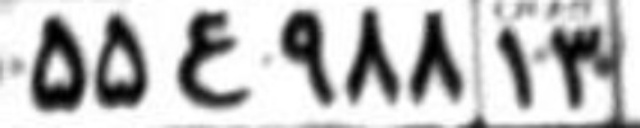1: (493, 25, 532, 108)
3: (546, 23, 604, 109)
5: (30, 16, 86, 109), (94, 12, 146, 109)
8: (342, 8, 401, 104), (410, 10, 464, 104)
9: (272, 9, 333, 105)
ain: (179, 11, 250, 108)
